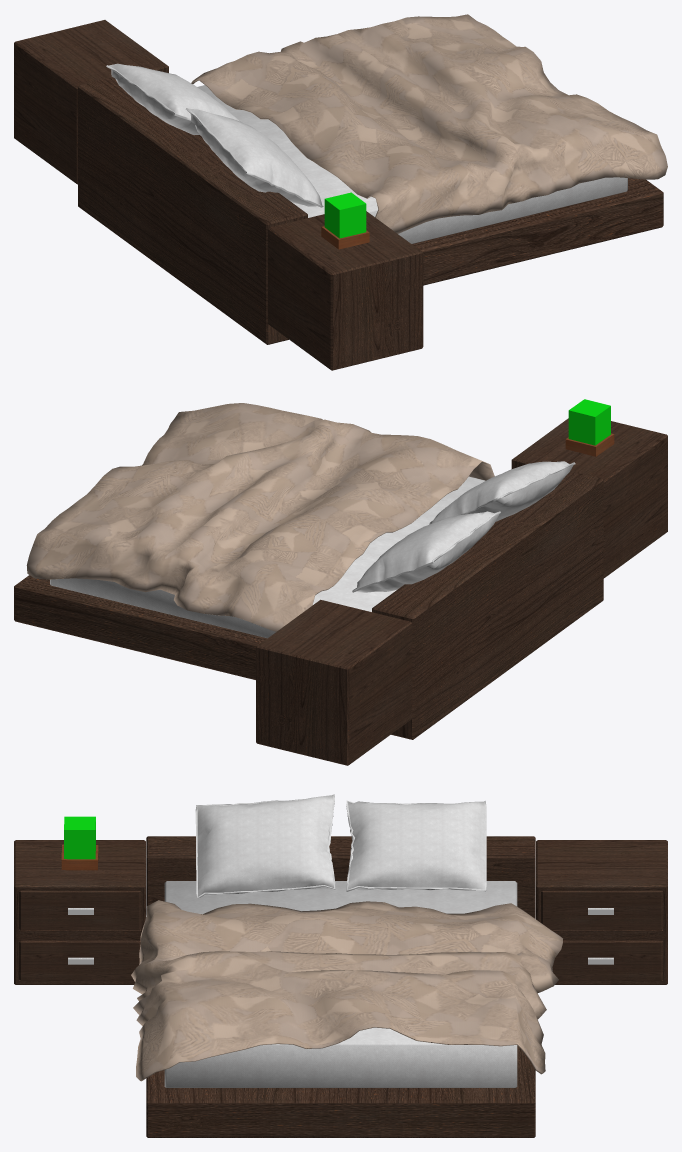
The model's file is sinnsitu_bed.fbx.
3 views of the same model, one above another, from view 1: azimuth 30°, elevation 25°; view 2: azimuth 150°, elevation 25°; view 3: azimuth 270°, elevation 25° (orthographic). The views are drawn at different scales.
Parts seen in each view (by area): view 1: 平面.001, 立方体.024, 立方体.036, 立方体.023, 立方体.053, 立方体.073, 立方体.077; view 2: 平面.001, 立方体.024, 立方体.036, 立方体.023, 立方体.073, 立方体.053, 立方体.077; view 3: 平面.001, 立方体.036, 立方体.024, 立方体.023, 立方体.053, 立方体.073, 立方体.077.
Boxes of the visible parts, x1=… form: 平面.001: x1=191, y1=14, x2=667, y2=233; 立方体.024: x1=78, y1=77, x2=663, y2=344; 立方体.036: x1=14, y1=20, x2=423, y2=370; 立方体.023: x1=197, y1=85, x2=627, y2=243; 立方体.053: x1=185, y1=108, x2=323, y2=207; 立方体.073: x1=106, y1=63, x2=240, y2=135; 立方体.077: x1=321, y1=192, x2=369, y2=249; 平面.001: x1=26, y1=403, x2=494, y2=631; 立方体.024: x1=14, y1=471, x2=603, y2=739; 立方体.036: x1=256, y1=418, x2=667, y2=765; 立方体.023: x1=50, y1=476, x2=485, y2=638; 立方体.073: x1=352, y1=511, x2=500, y2=592; 立方体.053: x1=429, y1=461, x2=575, y2=524; 立方体.077: x1=565, y1=399, x2=614, y2=456; 平面.001: x1=131, y1=900, x2=562, y2=1081; 立方体.036: x1=14, y1=840, x2=667, y2=984; 立方体.024: x1=146, y1=836, x2=535, y2=1137; 立方体.023: x1=164, y1=881, x2=517, y2=1087; 立方体.053: x1=195, y1=794, x2=335, y2=898; 立方体.073: x1=346, y1=800, x2=486, y2=891; 立方体.077: x1=61, y1=816, x2=98, y2=870.
Size of the model in its own units: 249 by 99.21 by 338.
